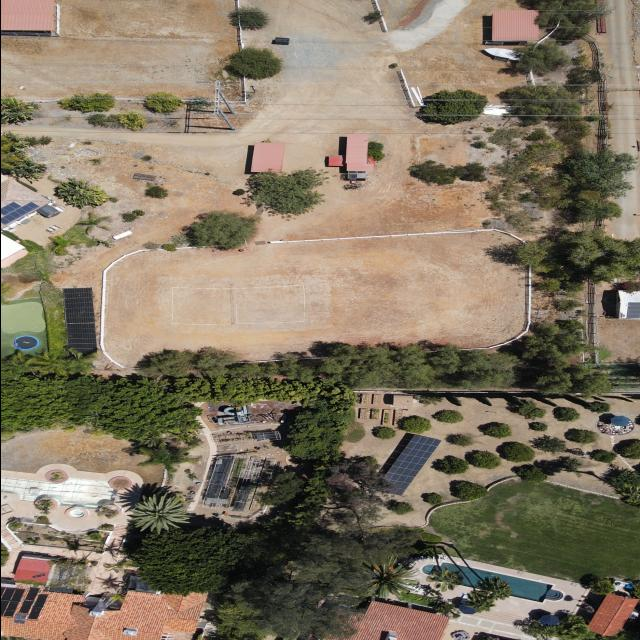solar-panels: (372, 424, 441, 506), (61, 286, 96, 356), (0, 587, 25, 618), (27, 591, 48, 622), (24, 584, 40, 603), (18, 597, 33, 616), (625, 302, 640, 319), (31, 573, 45, 579)
